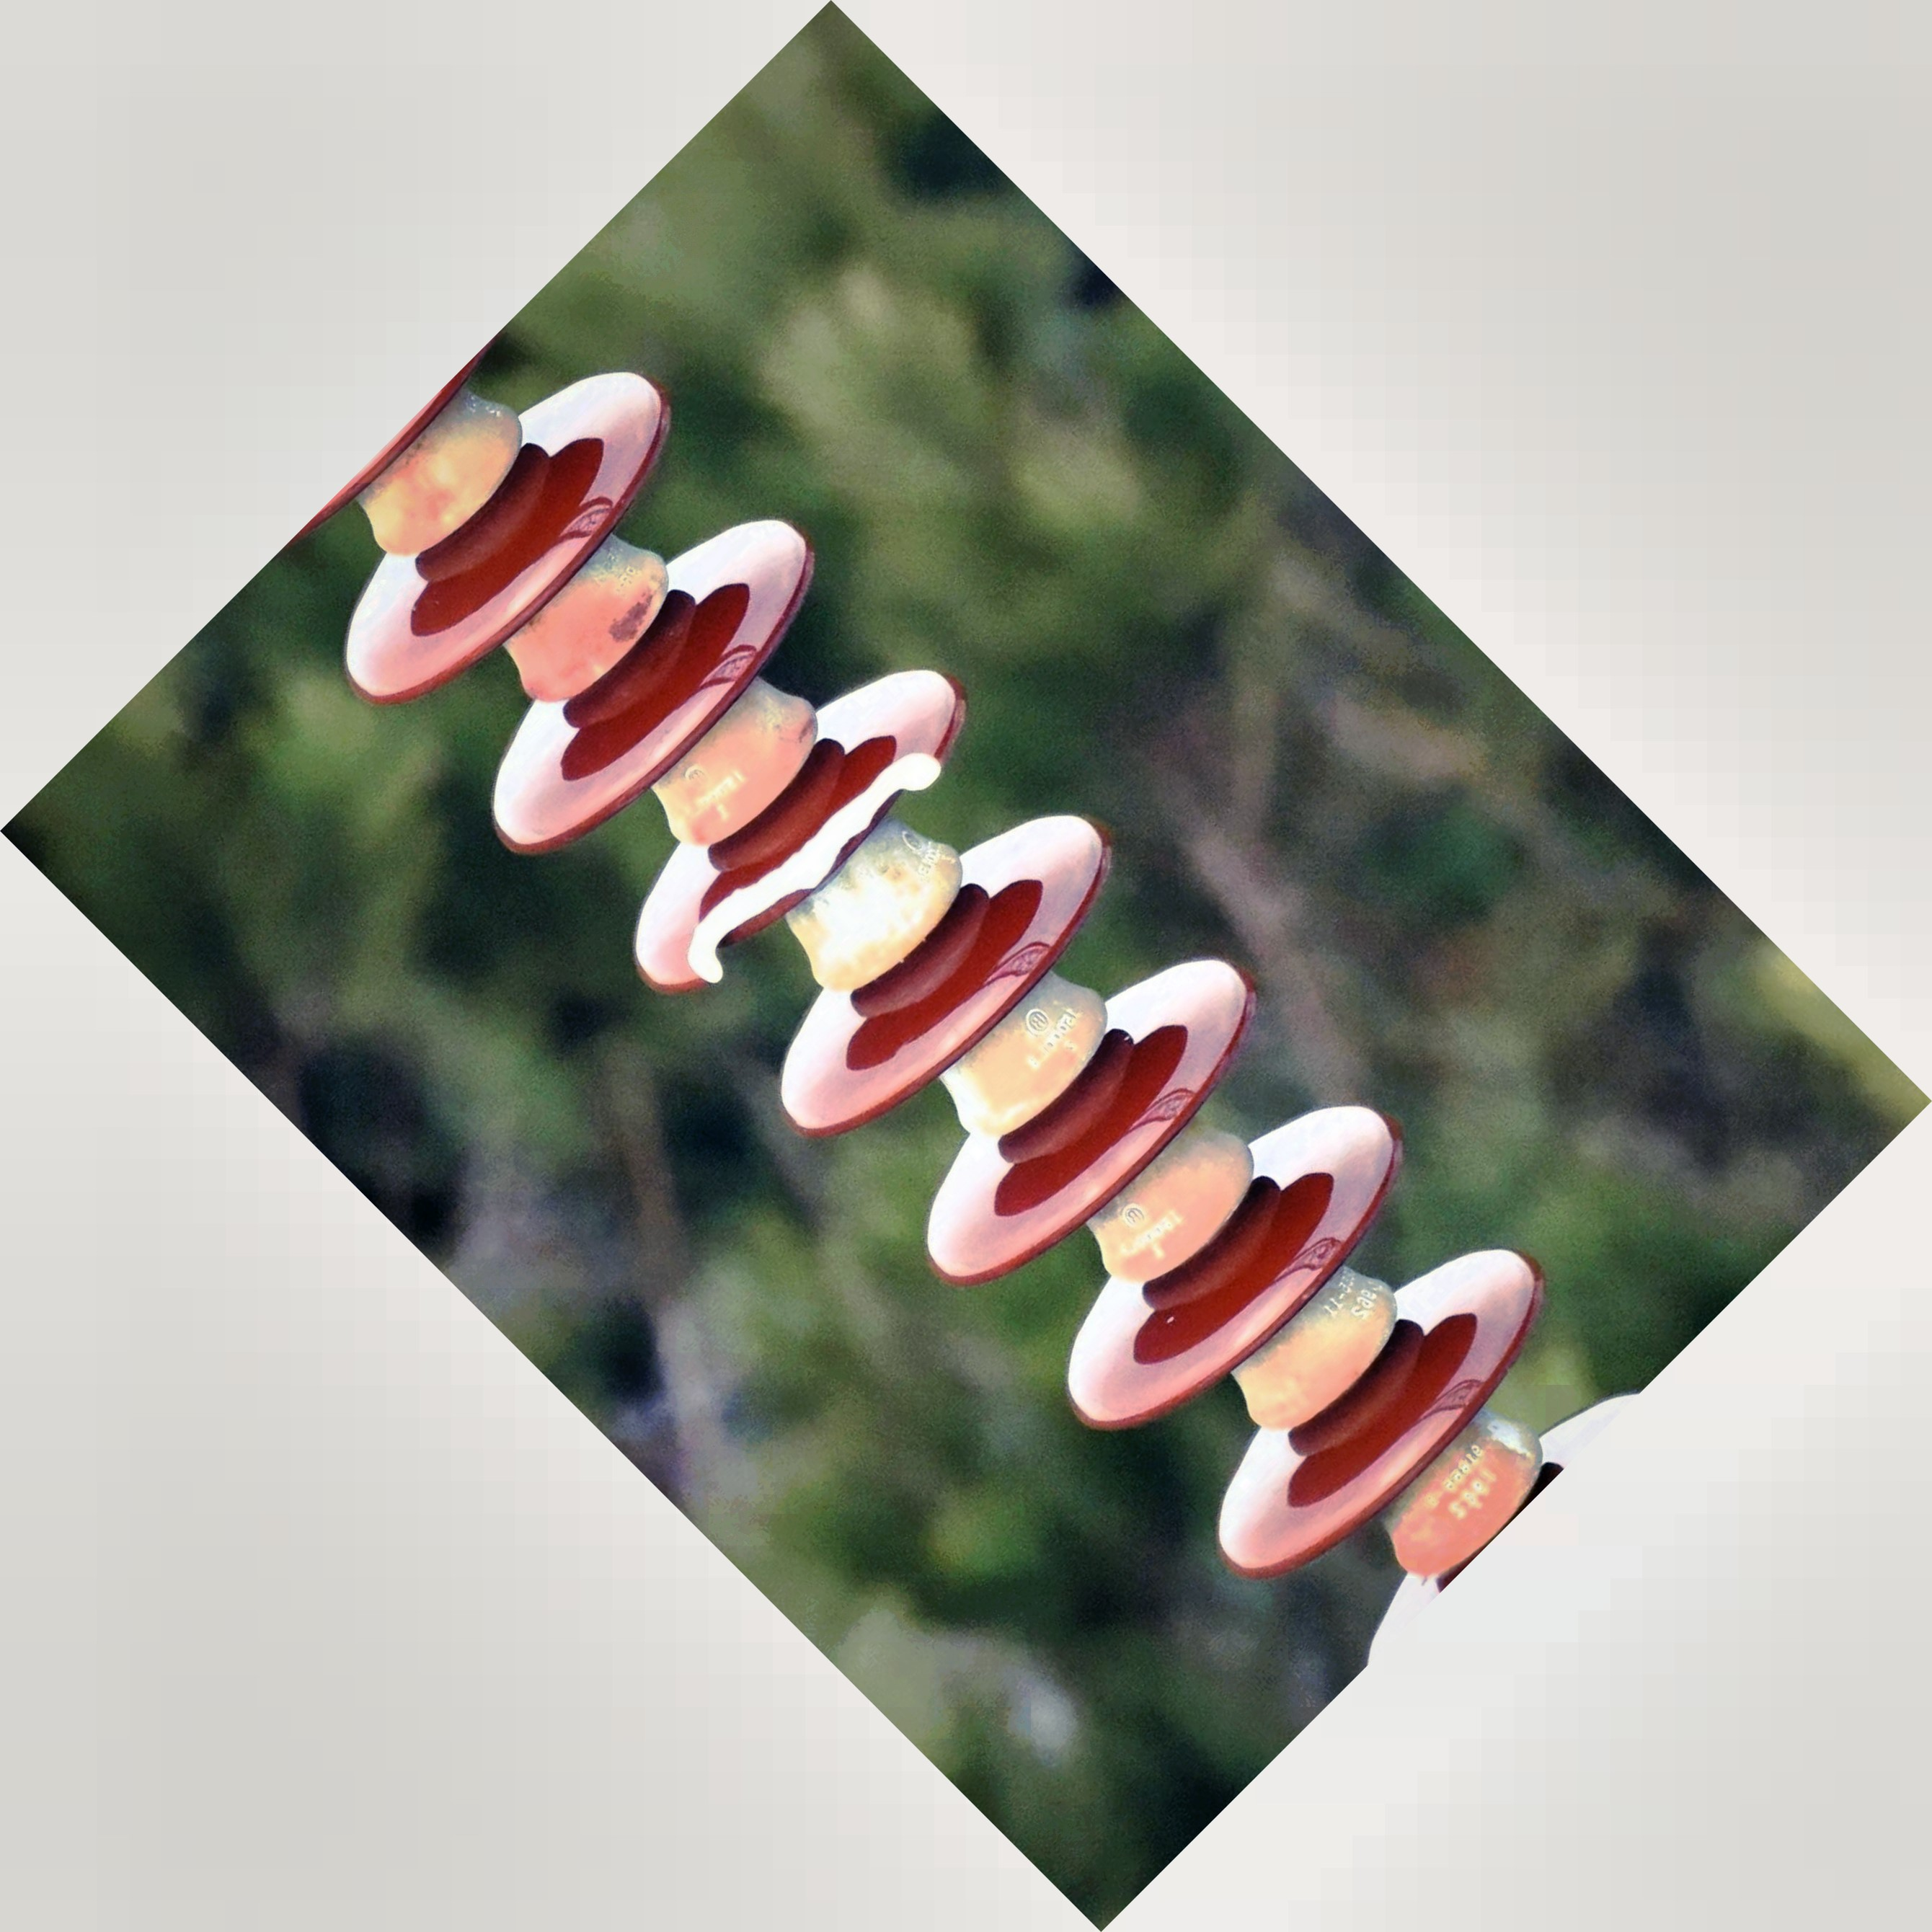insulator breakage: (633, 665, 989, 996)
